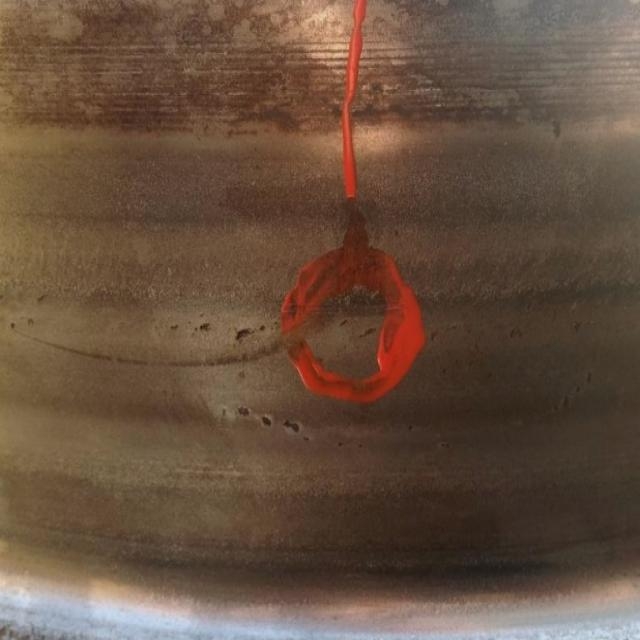Contact_Fatigue_Cracks: (233, 402, 310, 441), (169, 322, 269, 347), (340, 319, 377, 342)
